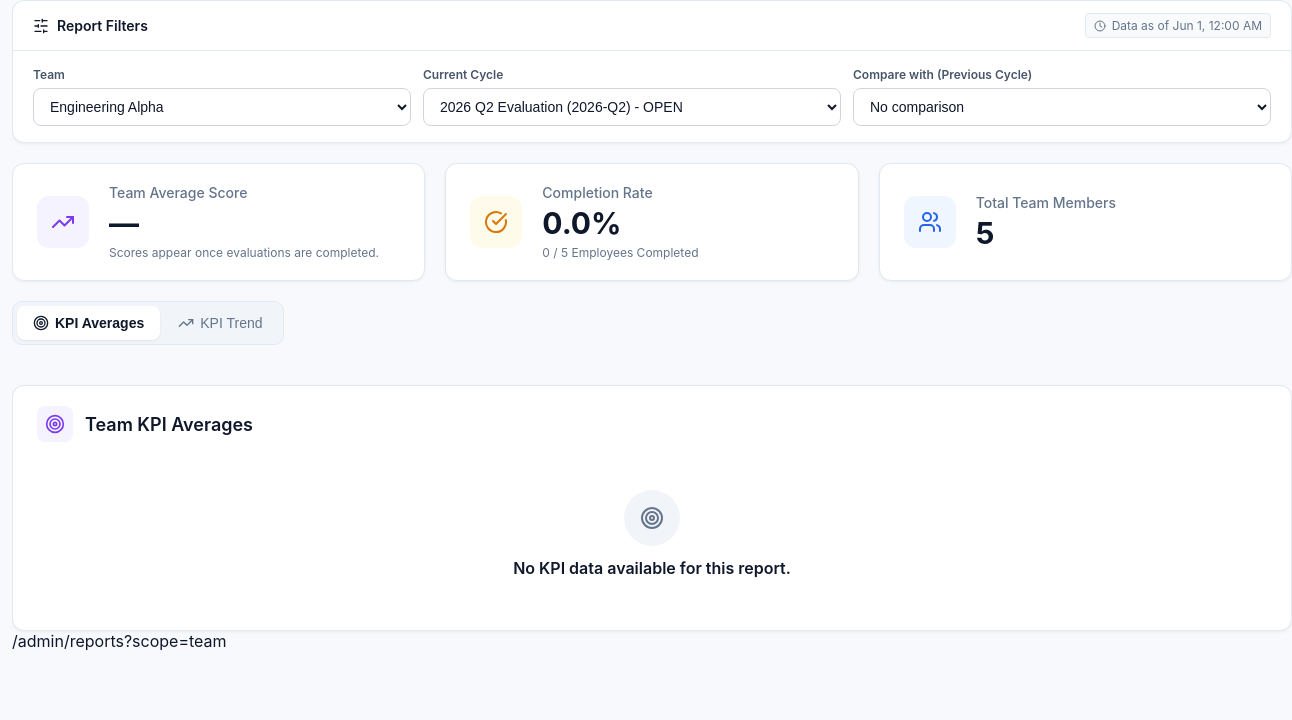
Test: TeamReportPage › embedded in the reports hub › switches between the KPI averages and the KPI trend with sub-tabs (TC45)
Expected: the heading "Team KPI Averages" is shown, [85,414,253,434]
Expected: the text "Cross-cycle KPI Trend" is not shown
Click the tab "KPI Trend": (220,323) [162,306,278,340]
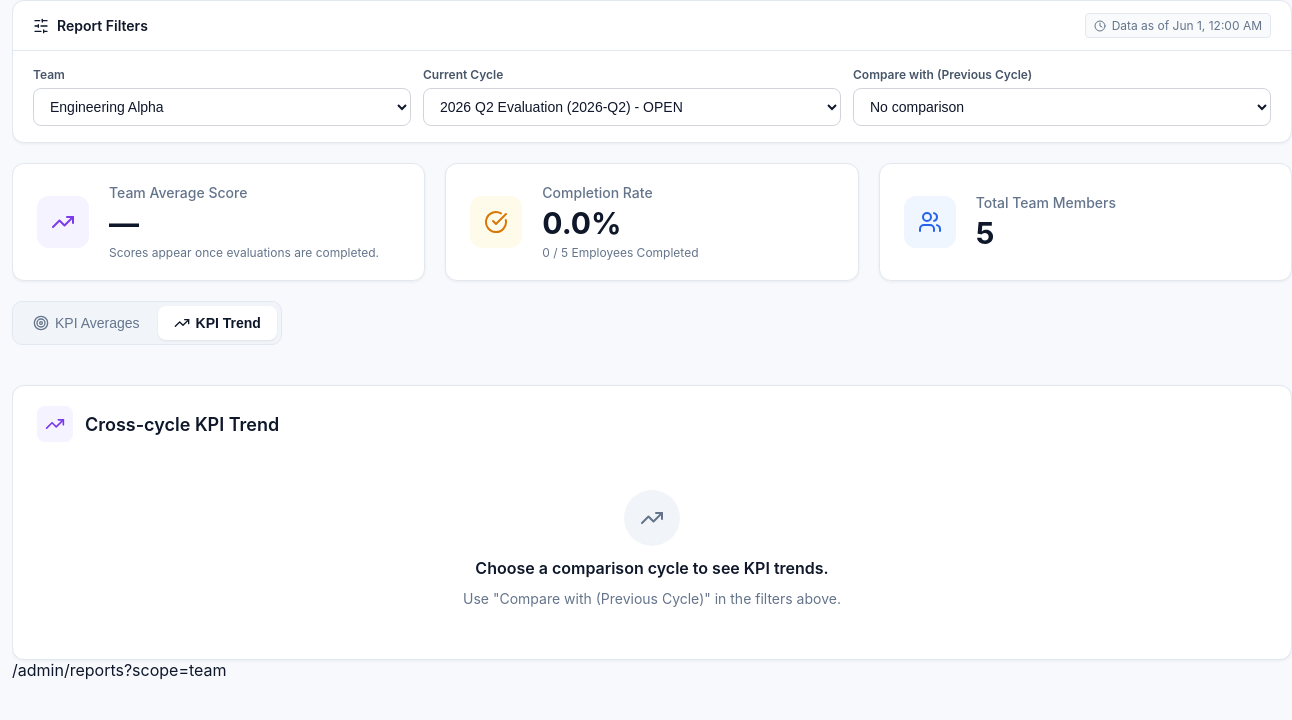
Expected: the dropdown labelled "Compare with (Previous Cycle)" is shown, [853,88,1271,126]
Now the heading "Cross-cycle KPI Trend" is shown, box [85,414,279,434]
Now the heading "Team KPI Averages" is gone
